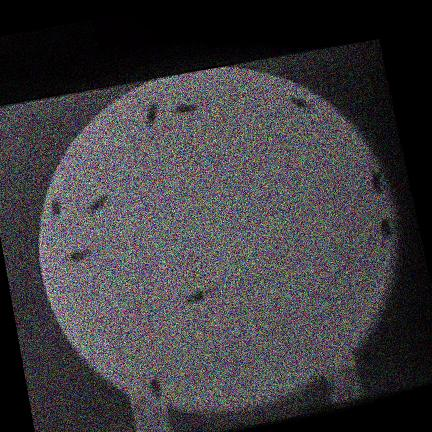fly: (87, 194, 109, 213), (289, 95, 312, 110), (67, 248, 91, 261), (146, 100, 158, 125), (371, 168, 383, 192), (172, 102, 198, 113), (187, 289, 207, 303), (381, 216, 392, 238), (150, 378, 162, 398), (50, 200, 62, 214)
